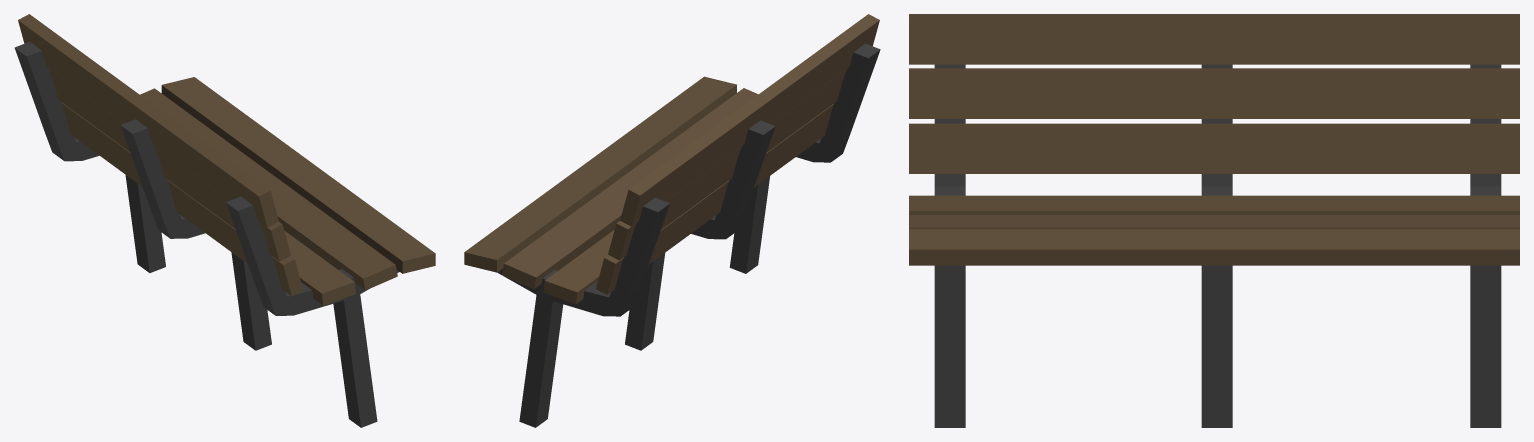
File: ParkBench.fbx
3 renders of one model, left to right at view 1: azimuth 30°, elevation 25°; view 2: azimuth 150°, elevation 25°; view 3: azimuth 270°, elevation 25°, orthographic. The views are drawn at different scales.
Parts seen in each view (by area): view 1: ParkBench2; view 2: ParkBench2; view 3: ParkBench2.
Part boxes in pixels (x1,y1,x2,y2): ParkBench2: (14, 14, 435, 427); ParkBench2: (464, 14, 880, 427); ParkBench2: (909, 14, 1519, 427).
Bounding box in the file's own units: 1.31 × 1.8 × 2.92.
